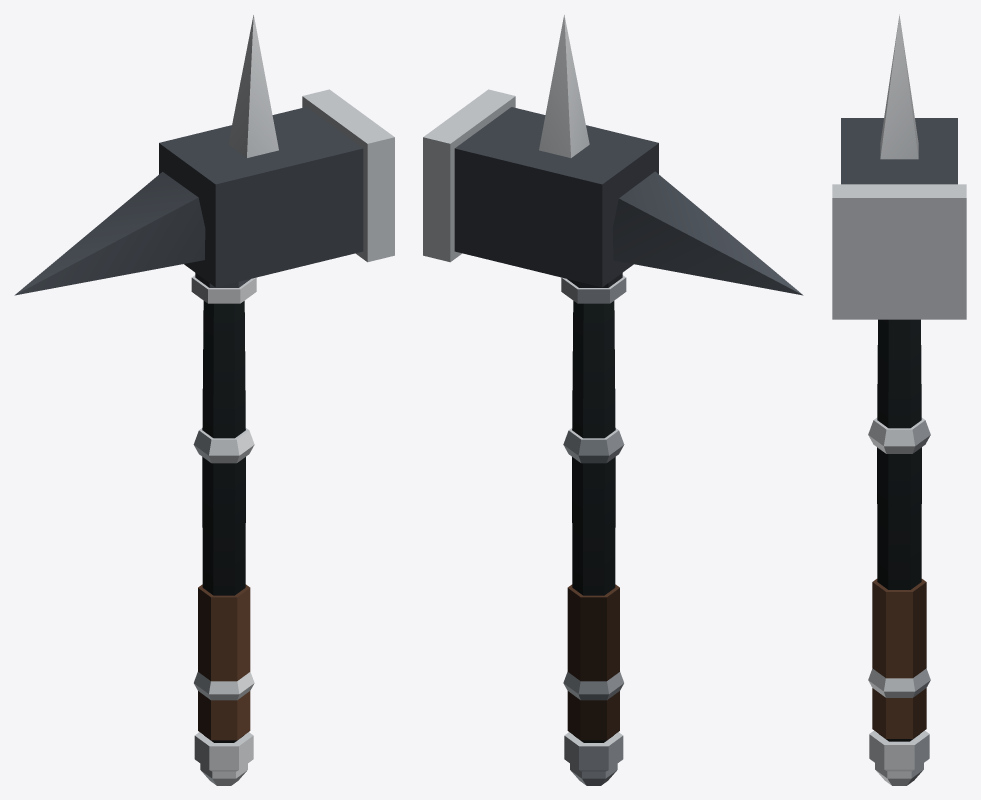
Rendered from knight_warhammer_2.gltf.
The picture shows the model from 3 angles, left to right: view 1: azimuth 30°, elevation 25°; view 2: azimuth 150°, elevation 25°; view 3: azimuth 270°, elevation 25°; orthographic projection. The views are drawn at different scales.
Parts seen in each view (by area): view 1: knight_warhammer_2; view 2: knight_warhammer_2; view 3: knight_warhammer_2.
Part boxes in pixels (x1,y1,x2,y2): knight_warhammer_2: [14, 15, 394, 785]; knight_warhammer_2: [423, 15, 803, 785]; knight_warhammer_2: [832, 14, 966, 785].
Bounding box in the file's own units: 0.764 × 1.59 × 0.2484.
1 material, 1 textured.
